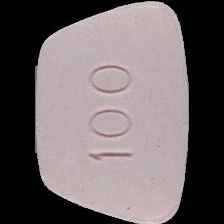61786-252: (0, 0, 224, 224)
